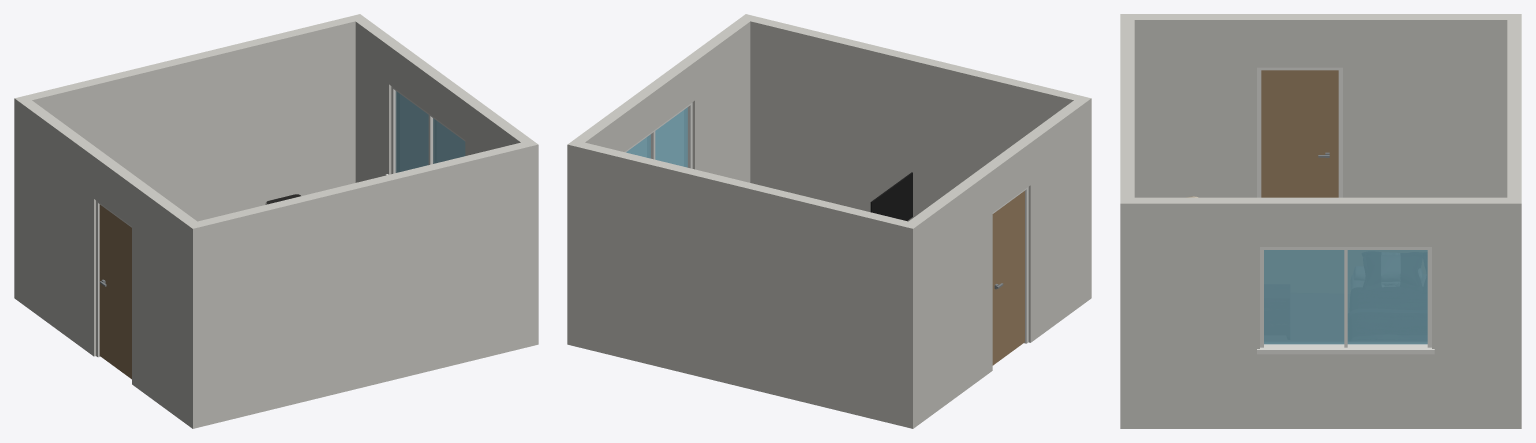
File: layoutvlm.glb
The picture shows the model from 3 angles, left to right: view 1: azimuth 30°, elevation 25°; view 2: azimuth 150°, elevation 25°; view 3: azimuth 270°, elevation 25°; orthographic projection. The views are drawn at different scales.
Visible parts, largest first — view 1: wall|scenesmith_047__R00|0, wall|scenesmith_047__R00|1, wall|scenesmith_047__R00|2, wall|scenesmith_047__R00|3, wall|scenesmith_047__R00|2 Door 0 | wood leaf, wall|scenesmith_047__R00|3 Window 0 | glazing, wall|scenesmith_047__R00|3 Window 0 | jamb, wall|scenesmith_047__R00|2 Door 0 | jamb; view 2: wall|scenesmith_047__R00|1, wall|scenesmith_047__R00|0, wall|scenesmith_047__R00|2, wall|scenesmith_047__R00|3, wall|scenesmith_047__R00|2 Door 0 | wood leaf, wall|scenesmith_047__R00|3 Window 0 | glazing, scenesmith_047__R00_tv-0, wall|scenesmith_047__R00|2 Door 0 | jamb, wall|scenesmith_047__R00|3 Window 0 | jamb; view 3: wall|scenesmith_047__R00|3, wall|scenesmith_047__R00|2, wall|scenesmith_047__R00|3 Window 0 | glazing, wall|scenesmith_047__R00|2 Door 0 | wood leaf, wall|scenesmith_047__R00|1, wall|scenesmith_047__R00|0, wall|scenesmith_047__R00|3 Window 0 | jamb, wall|scenesmith_047__R00|2 Door 0 | jamb.
Boxes of the visible parts, x1,y1,x2,y2 form: wall|scenesmith_047__R00|0: (187, 140, 538, 428); wall|scenesmith_047__R00|1: (15, 14, 365, 221); wall|scenesmith_047__R00|2: (14, 98, 203, 428); wall|scenesmith_047__R00|3: (353, 16, 534, 182); wall|scenesmith_047__R00|2 Door 0 | wood leaf: (99, 204, 131, 379); wall|scenesmith_047__R00|3 Window 0 | glazing: (395, 91, 465, 172); wall|scenesmith_047__R00|3 Window 0 | jamb: (385, 86, 465, 175); wall|scenesmith_047__R00|2 Door 0 | jamb: (96, 200, 131, 357); wall|scenesmith_047__R00|1: (567, 140, 918, 428); wall|scenesmith_047__R00|0: (740, 14, 1090, 221); wall|scenesmith_047__R00|2: (902, 98, 1091, 428); wall|scenesmith_047__R00|3: (571, 14, 755, 182); wall|scenesmith_047__R00|2 Door 0 | wood leaf: (992, 191, 1024, 365); wall|scenesmith_047__R00|3 Window 0 | glazing: (626, 107, 687, 167); scenesmith_047__R00_tv-0: (870, 172, 912, 221); wall|scenesmith_047__R00|2 Door 0 | jamb: (992, 187, 1028, 343); wall|scenesmith_047__R00|3 Window 0 | jamb: (624, 102, 692, 168); wall|scenesmith_047__R00|3: (1120, 197, 1520, 428); wall|scenesmith_047__R00|2: (1134, 14, 1507, 197); wall|scenesmith_047__R00|3 Window 0 | glazing: (1264, 250, 1427, 344); wall|scenesmith_047__R00|2 Door 0 | wood leaf: (1261, 70, 1338, 197); wall|scenesmith_047__R00|1: (1507, 14, 1521, 428); wall|scenesmith_047__R00|0: (1120, 14, 1134, 428); wall|scenesmith_047__R00|3 Window 0 | jamb: (1257, 247, 1434, 354); wall|scenesmith_047__R00|2 Door 0 | jamb: (1257, 67, 1342, 197).
Bounding box in the file's own units: 4.73 × 2.61 × 4.2.
Materials: 12 (4 with a texture image).
